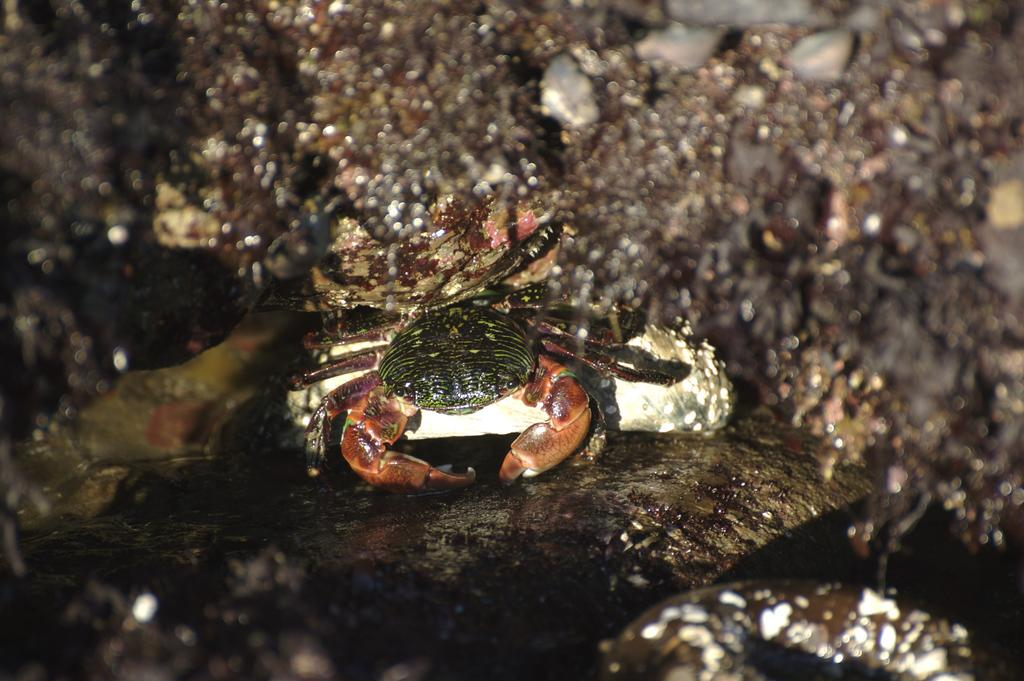Crab: (276, 209, 694, 488)
